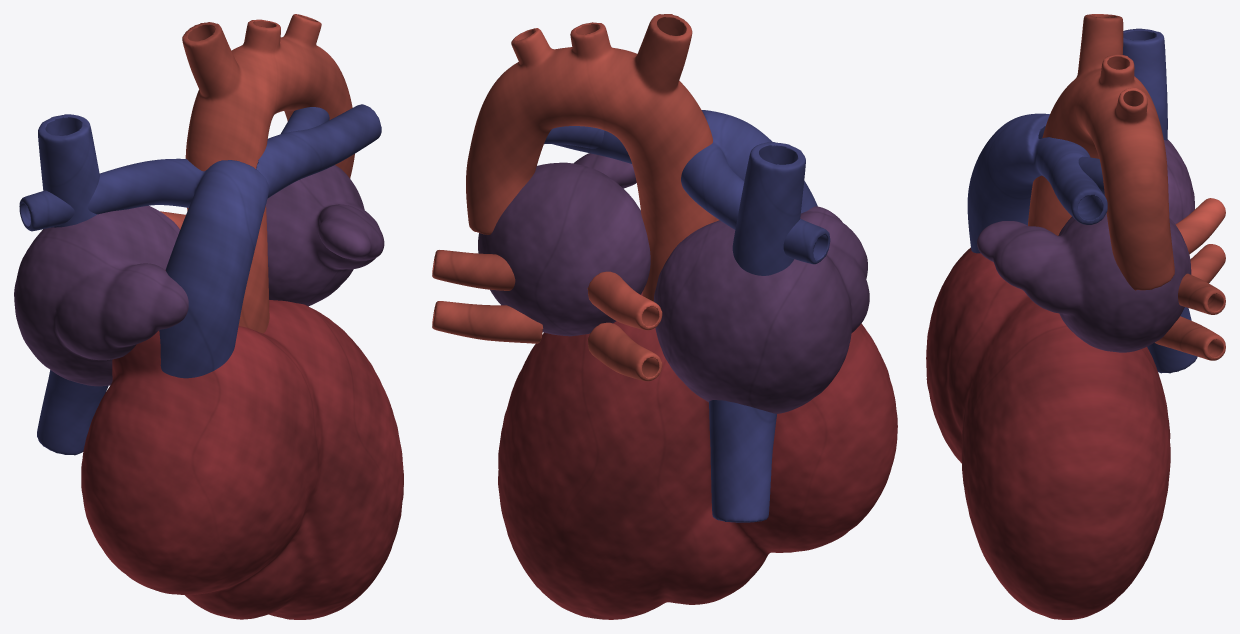
File: WholeHeart_03_Week07_SeparatedOutflows.glb
3 renders of one model, left to right at view 1: azimuth 30°, elevation 25°; view 2: azimuth 150°, elevation 25°; view 3: azimuth 270°, elevation 25°, orthographic. The views are drawn at different scales.
Parts seen in each view (by area): view 1: VentricularMyocardium, PulmonaryTrunkAndArteries, RightAtriumAndAuricle, AortaAndArch, LeftAtriumAndAuricle, SuperiorVenaCava, InferiorVenaCava, DuctusArteriosus; view 2: VentricularMyocardium, AortaAndArch, RightAtriumAndAuricle, LeftAtriumAndAuricle, PulmonaryTrunkAndArteries, SuperiorVenaCava, InferiorVenaCava, LeftPulmonaryVein2, LeftPulmonaryVein1, RightPulmonaryVein2, RightPulmonaryVein1, DuctusArteriosus; view 3: VentricularMyocardium, AortaAndArch, LeftAtriumAndAuricle, PulmonaryTrunkAndArteries, SuperiorVenaCava, LeftPulmonaryVein2, RightAtriumAndAuricle, RightPulmonaryVein1, LeftPulmonaryVein1, InferiorVenaCava, RightPulmonaryVein2, DuctusArteriosus.
Boxes of the visible parts, x1,y1,x2,y2 form: VentricularMyocardium: (81,270,403,619); PulmonaryTrunkAndArteries: (19,104,381,378); RightAtriumAndAuricle: (14,205,188,386); AortaAndArch: (182,14,354,333); LeftAtriumAndAuricle: (266,165,384,306); SuperiorVenaCava: (38,114,99,227); InferiorVenaCava: (37,370,108,455); DuctusArteriosus: (280,107,329,134); VentricularMyocardium: (498,292,897,619); AortaAndArch: (466,14,719,301); RightAtriumAndAuricle: (654,206,869,413); LeftAtriumAndAuricle: (478,153,650,336); PulmonaryTrunkAndArteries: (552,110,830,264); SuperiorVenaCava: (732,142,805,275); InferiorVenaCava: (709,400,776,522); LeftPulmonaryVein2: (432,301,543,343); LeftPulmonaryVein1: (432,250,515,290); RightPulmonaryVein2: (587,322,662,381); RightPulmonaryVein1: (587,271,662,330); DuctusArteriosus: (544,126,604,148); VentricularMyocardium: (926,247,1170,619); AortaAndArch: (1028,14,1174,290); LeftAtriumAndAuricle: (977,213,1191,352); PulmonaryTrunkAndArteries: (967,113,1107,253); SuperiorVenaCava: (1123,28,1167,140); LeftPulmonaryVein2: (1155,316,1225,360); RightAtriumAndAuricle: (1164,139,1194,224); RightPulmonaryVein1: (1175,198,1225,254); LeftPulmonaryVein1: (1178,273,1225,314); InferiorVenaCava: (1147,307,1197,373); RightPulmonaryVein2: (1190,244,1225,283); DuctusArteriosus: (1078,156,1104,195).
Bounding box in the file's own units: 0.13 × 0.2161 × 0.1042.
4 materials, 4 textured.
